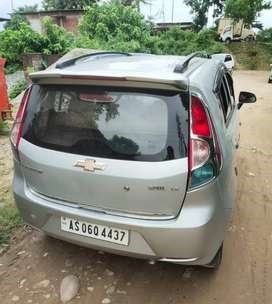AS06Q4437: (61, 217, 128, 245)
